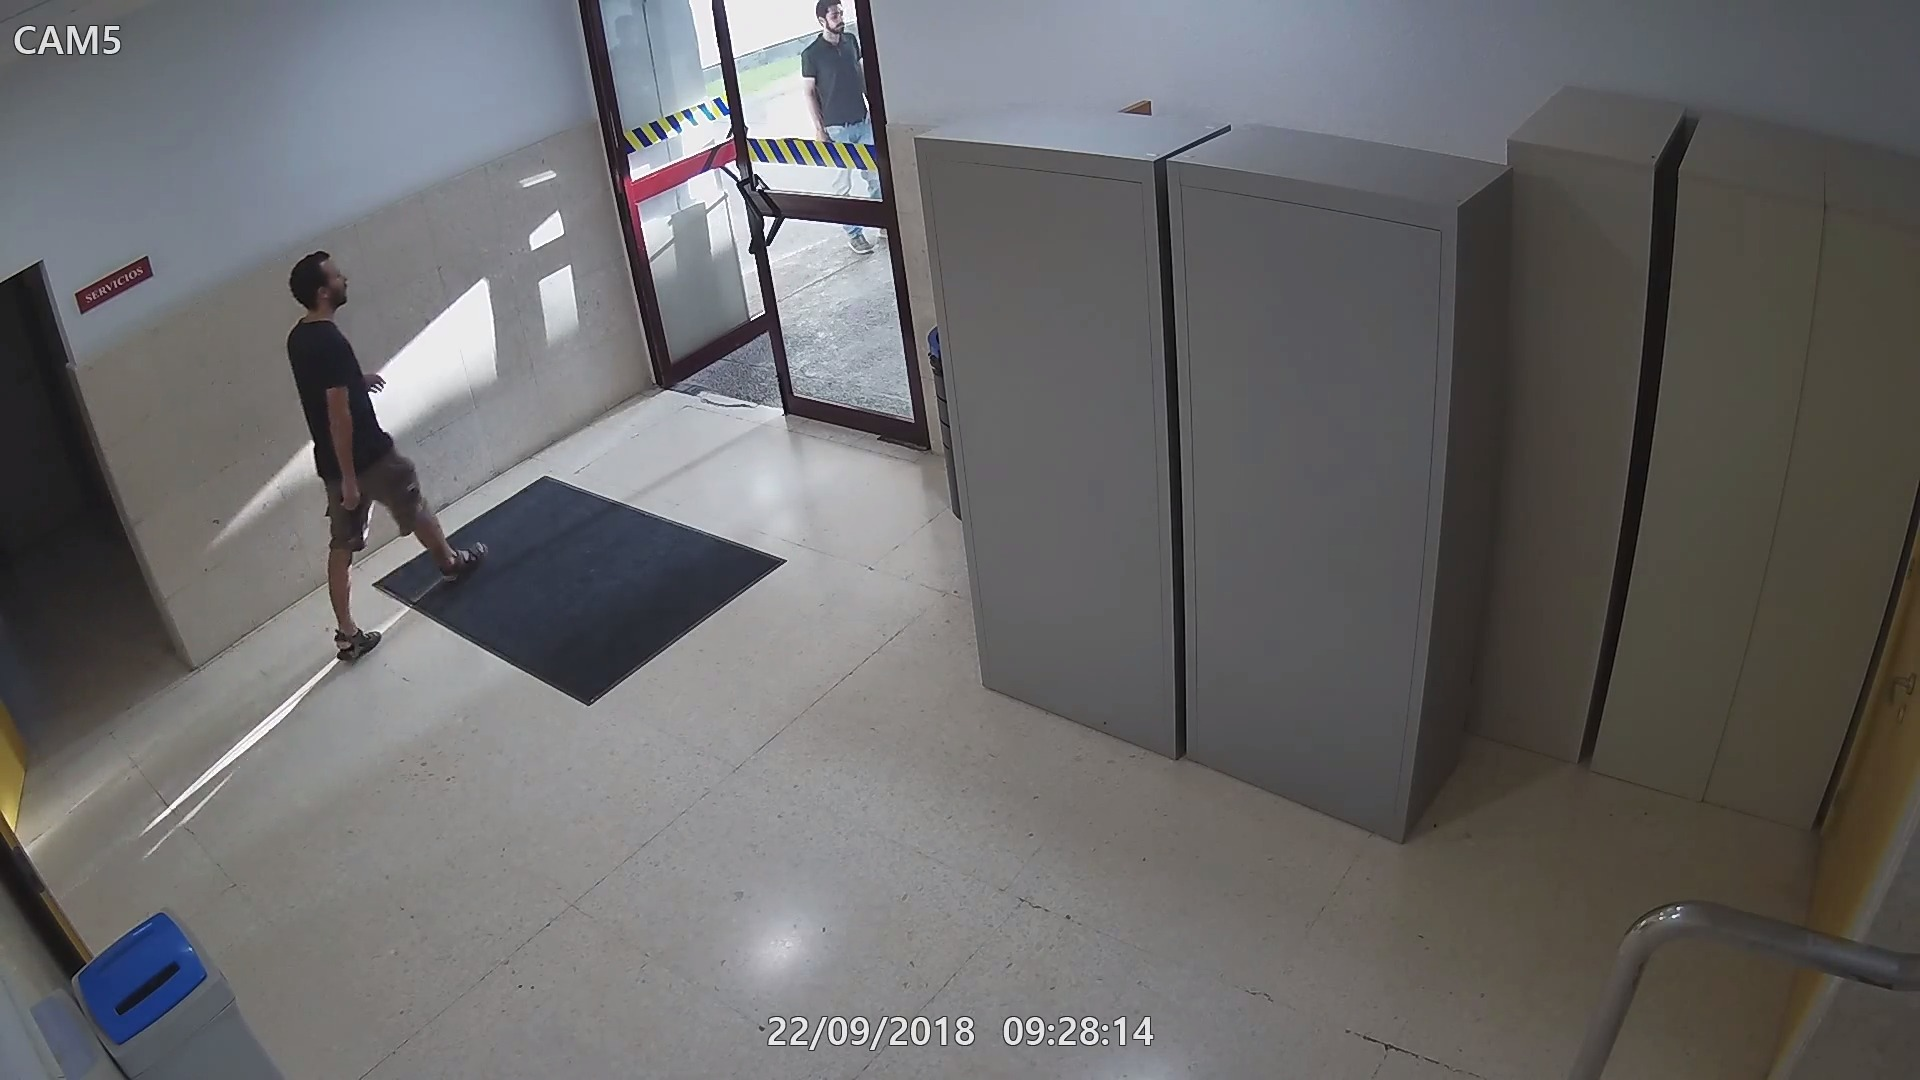Handgun: (331, 479, 371, 545)
